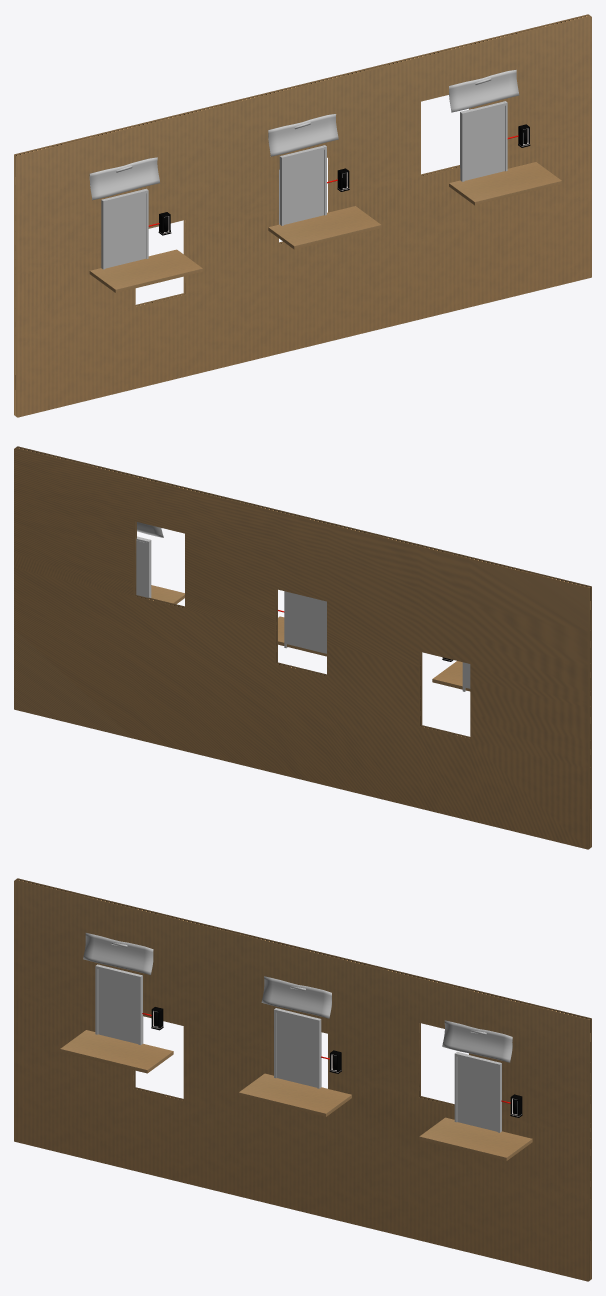
File: Door_3_lvl_1.fbx
The picture shows the model from 3 angles, top to bottom: view 1: azimuth 30°, elevation 25°; view 2: azimuth 150°, elevation 25°; view 3: azimuth 330°, elevation 25°; orthographic projection.
Parts seen in each view (by area): view 1: Wall_3Doors, Door1_1, Door1_2, Door1, Platform, Platform_2, Platform_1, ExitSign_2, ExitSign, ExitSign_1; view 2: Wall_3Doors, Door1_2, Door1_1, Platform; view 3: Wall_3Doors, Door1, Door1_1, Door1_2, Platform, Platform_1, Platform_2, ExitSign, ExitSign_1, ExitSign_2.
Boxes of the visible parts, x1,y1,x2,y2 form: Wall_3Doors: [14, 14, 591, 417]; Door1_1: [464, 106, 504, 180]; Door1_2: [284, 150, 324, 224]; Door1: [105, 193, 145, 268]; Platform: [89, 249, 202, 292]; Platform_2: [268, 206, 381, 249]; Platform_1: [449, 162, 561, 205]; ExitSign_2: [268, 114, 338, 156]; ExitSign: [89, 157, 159, 200]; ExitSign_1: [449, 69, 519, 112]; Wall_3Doors: [14, 446, 591, 849]; Door1_2: [285, 591, 326, 653]; Door1_1: [136, 540, 147, 597]; Platform: [432, 661, 470, 691]; Wall_3Doors: [14, 878, 591, 1281]; Door1: [98, 969, 138, 1044]; Door1_1: [457, 1056, 497, 1131]; Door1_2: [276, 1012, 316, 1087]; Platform: [60, 1030, 173, 1073]; Platform_1: [419, 1117, 532, 1160]; Platform_2: [238, 1073, 351, 1116]; ExitSign: [83, 932, 153, 974]; ExitSign_1: [442, 1020, 512, 1062]; ExitSign_2: [261, 976, 331, 1018].
Size of the model in its own units: 5534 by 2400 by 493.
